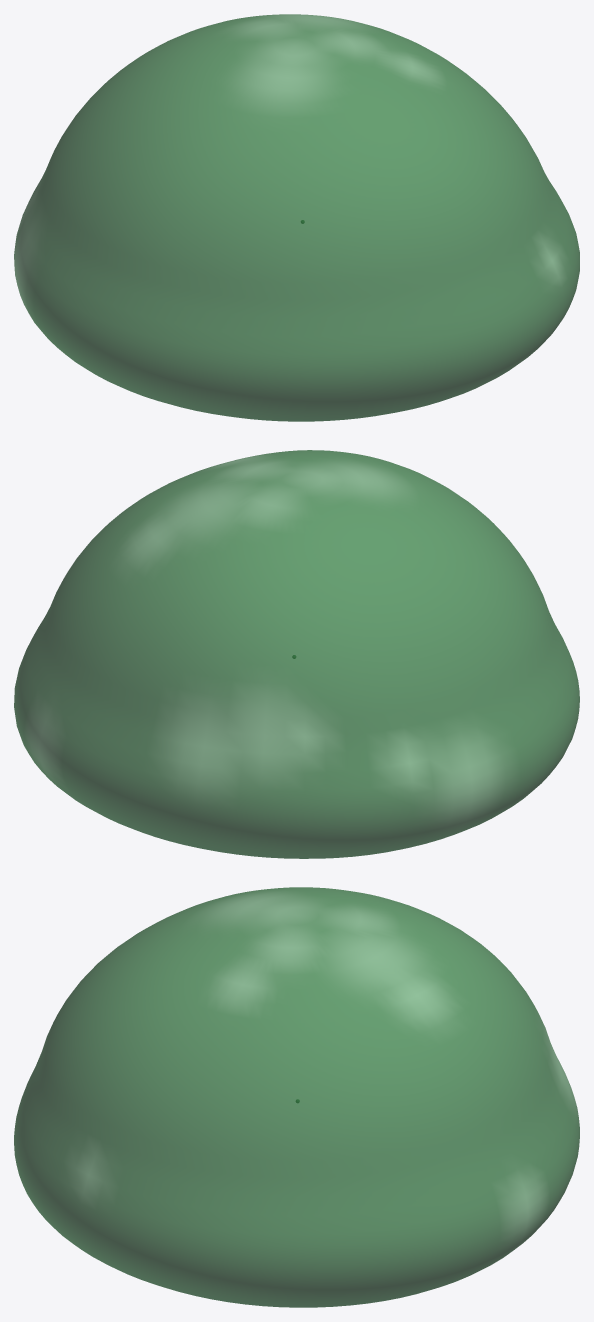
File: slime_dp_01.glb
3 renders of one model, top to bottom at view 1: azimuth 30°, elevation 25°; view 2: azimuth 150°, elevation 25°; view 3: azimuth 270°, elevation 25°, orthographic. The views are drawn at different scales.
Visible parts, largest first — view 1: slime; view 2: slime; view 3: slime.
Part boxes in pixels (<box>): slime: <box>14,14,579,421</box>; slime: <box>14,450,579,858</box>; slime: <box>14,887,579,1307</box>.
Bounding box in the file's own units: 1.08 × 0.6839 × 1.06.
